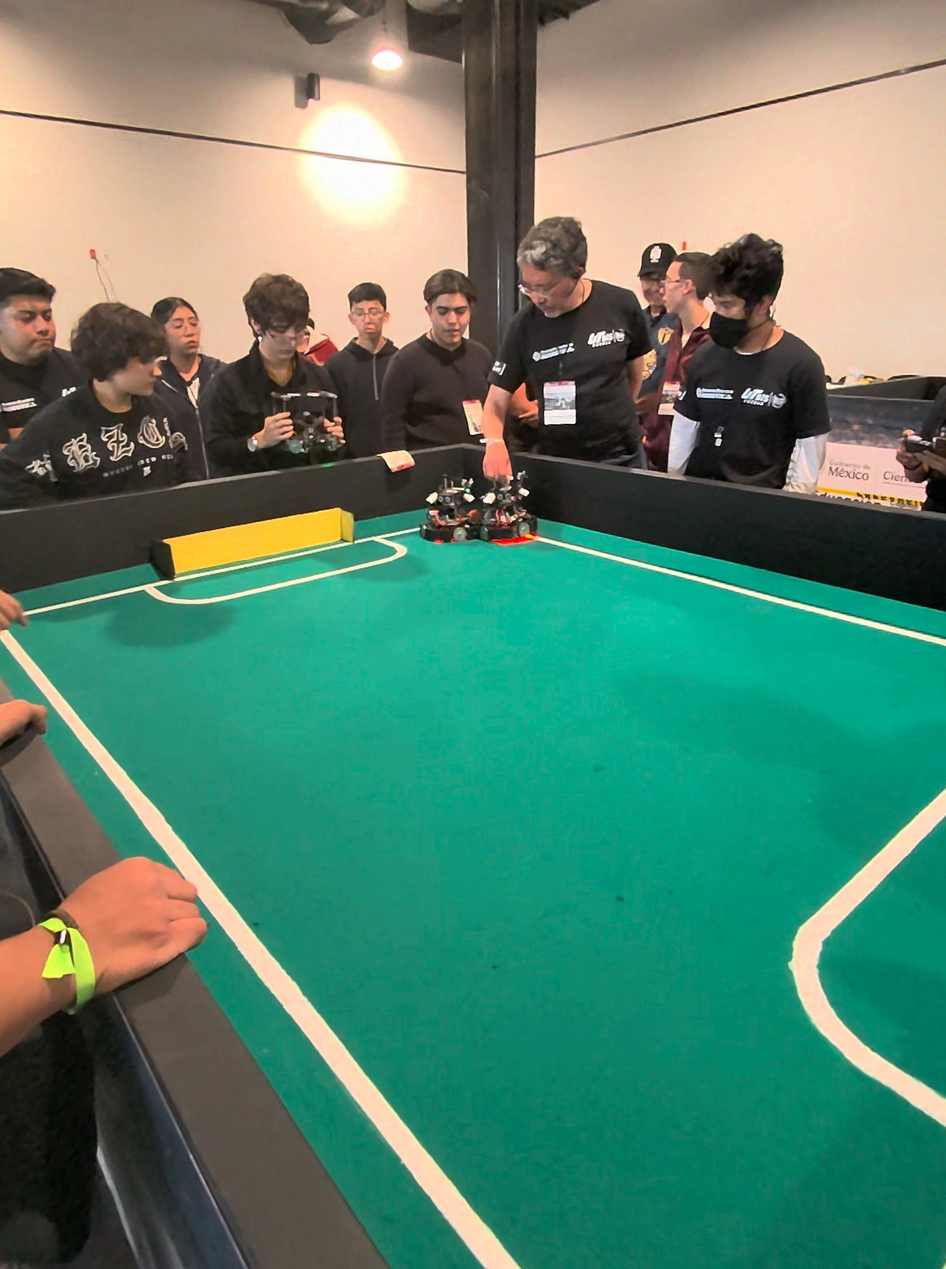Robot: (486, 462, 544, 549), (423, 463, 482, 548)
